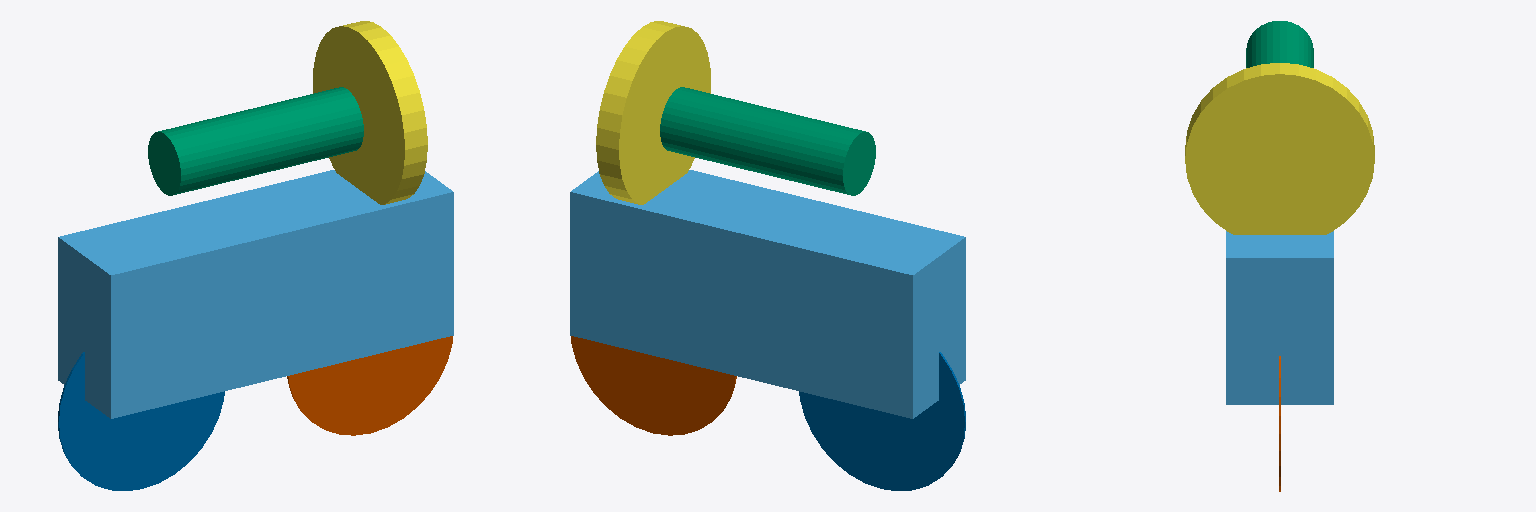
The robot description file, URDF, robot "obike":
<?xml version="1.0" ?>
<!-- =================================================================================== -->
<!-- |    This document was autogenerated by xacro from obike.xacro                    | -->
<!-- |    EDITING THIS FILE BY HAND IS NOT RECOMMENDED                                 | -->
<!-- =================================================================================== -->
<robot name="obike">
  <link name="base">
		
	</link>
  <link name="body">
    <visual>
      <origin rpy="0 0 0" xyz="0 0 0"/>
      <geometry>
        <box size="0.150 0.04 0.06" xyz="0 0 0"/>
      </geometry>
    </visual>
    <inertial>
      <origin rpy="0 0 0" xyz="0 0 0"/>
      <mass value="0.1850004"/>
      <inertia ixx="8.016684e-05" ixy="0" ixz="0" iyy="0.00040237587" iyz="0" izz="0.00037154247"/>
    </inertial>
  </link>
  <joint name="base_joint" type="continuous">
    <origin rpy="0 0 0" xyz="0 0 0.0665"/>
    <axis xyz="1 0 0"/>
    <parent link="base"/>
    <child link="body"/>
  </joint>
  <link name="reaction_wheel_assembly">
    <visual>
      <origin rpy="0 0 0"/>
      <geometry>
        <cylinder length="0.08" radius="0.0125" rpy="0 0 0" xyz="0 0 0"/>
      </geometry>
    </visual>
    <inertial>
      <origin rpy="0 0 0" xyz="0 0 0"/>
      <mass value="0.212999981913388"/>
      <inertia ixx="0.00012192030214729867" ixy="0" ixz="0" iyy="0.00012192030214729867" iyz="0" izz="1.6640623586983442e-05"/>
    </inertial>
  </link>
  <joint name="reaction_wheel_assembly_joint" type="fixed">
    <origin rpy="0 1.5707963267948966 0" xyz="0 0 0.0605"/>
    <parent link="body"/>
    <child link="reaction_wheel_assembly"/>
  </joint>
  <link name="reaction_wheel">
    <visual>
      <origin rpy="0 0 0"/>
      <geometry>
        <cylinder length="0.01" radius="0.035" rpy="0 0 0" xyz="0 0 0"/>
      </geometry>
    </visual>
    <inertial>
      <origin rpy="0 0 0" xyz="0 0 0"/>
      <mass value="0.19800011006761326"/>
      <inertia ixx="6.228753462543666e-05" ixy="0" ixz="0" iyy="6.228753462543666e-05" iyz="0" izz="0.00012127506741641313"/>
    </inertial>
  </link>
  <joint name="reaction_wheel_joint" type="continuous">
    <origin rpy="0 0 0" xyz="0 0 0.05"/>
    <axis xyz="0 0 1"/>
    <parent link="reaction_wheel_assembly"/>
    <child link="reaction_wheel"/>
  </joint>
  <link name="wheel_0">
    <visual>
      <geometry>
        <cylinder length="0.001" radius="0.0365" rpy="0 0 0" xyz="0 0 0"/>
      </geometry>
    </visual>
    <collision>
      <origin rpy="0 0 0" xyz="0 0 0"/>
      <geometry>
        <cylinder length="0.001" radius="0.0365"/>
      </geometry>
    </collision>
    <inertial>
      <origin rpy="0 0 0" xyz="0 0 0"/>
      <mass value="0.004185386812745002"/>
      <inertia ixx="1.3943441775542774e-06" ixy="0" ixz="0" iyy="1.3943441775542774e-06" iyz="0" izz="2.787990790639764e-06"/>
    </inertial>
  </link>
  <joint name="wheel_0_joint" type="continuous">
    <origin rpy="1.5707963267948966 0 0" xyz="-0.05 0 -0.0365"/>
    <axis xyz="0 0 1"/>
    <parent link="body"/>
    <child link="wheel_0"/>
  </joint>
  <link name="wheel_1">
    <visual>
      <geometry>
        <cylinder length="0.001" radius="0.0365" rpy="0 0 0" xyz="0 0 0"/>
      </geometry>
    </visual>
    <collision>
      <origin rpy="0 0 0" xyz="0 0 0"/>
      <geometry>
        <cylinder length="0.001" radius="0.0365"/>
      </geometry>
    </collision>
    <inertial>
      <origin rpy="0 0 0" xyz="0 0 0"/>
      <mass value="0.004185386812745002"/>
      <inertia ixx="1.3943441775542774e-06" ixy="0" ixz="0" iyy="1.3943441775542774e-06" iyz="0" izz="2.787990790639764e-06"/>
    </inertial>
  </link>
  <joint name="wheel_1_joint" type="continuous">
    <origin rpy="1.5707963267948966 0 0" xyz="0.05 0 -0.0365"/>
    <axis xyz="0 0 1"/>
    <parent link="body"/>
    <child link="wheel_1"/>
  </joint>
</robot>

--- Render facts (derived) ---
3 views of the same robot in one strip: view 1: azimuth 30°, elevation 25°; view 2: azimuth 150°, elevation 25°; view 3: azimuth 270°, elevation 25° (orthographic).
Robot: obike — 6 links, 5 joints (4 continuous, 1 fixed); root link base; default pose: all joints at 0.
Links seen in each view (by area): view 1: body, reaction_wheel_assembly, reaction_wheel, wheel_0, wheel_1; view 2: body, reaction_wheel_assembly, reaction_wheel, wheel_0, wheel_1; view 3: reaction_wheel, body, reaction_wheel_assembly.
Boxes of the visible links, bbox=[...] form: body: bbox=[58, 170, 453, 418]; reaction_wheel_assembly: bbox=[148, 87, 363, 195]; reaction_wheel: bbox=[313, 21, 427, 204]; wheel_0: bbox=[58, 352, 224, 490]; wheel_1: bbox=[287, 336, 452, 435]; body: bbox=[570, 170, 965, 418]; reaction_wheel_assembly: bbox=[660, 87, 875, 195]; reaction_wheel: bbox=[596, 21, 710, 204]; wheel_0: bbox=[799, 352, 965, 490]; wheel_1: bbox=[571, 336, 736, 435]; reaction_wheel: bbox=[1185, 63, 1374, 234]; body: bbox=[1226, 231, 1333, 404]; reaction_wheel_assembly: bbox=[1246, 21, 1313, 67].
Size in the robot's own frame: 0.173 by 0.07 by 0.1685 metres.
Geometry: primitives only (box / cylinder / sphere), no mesh files.